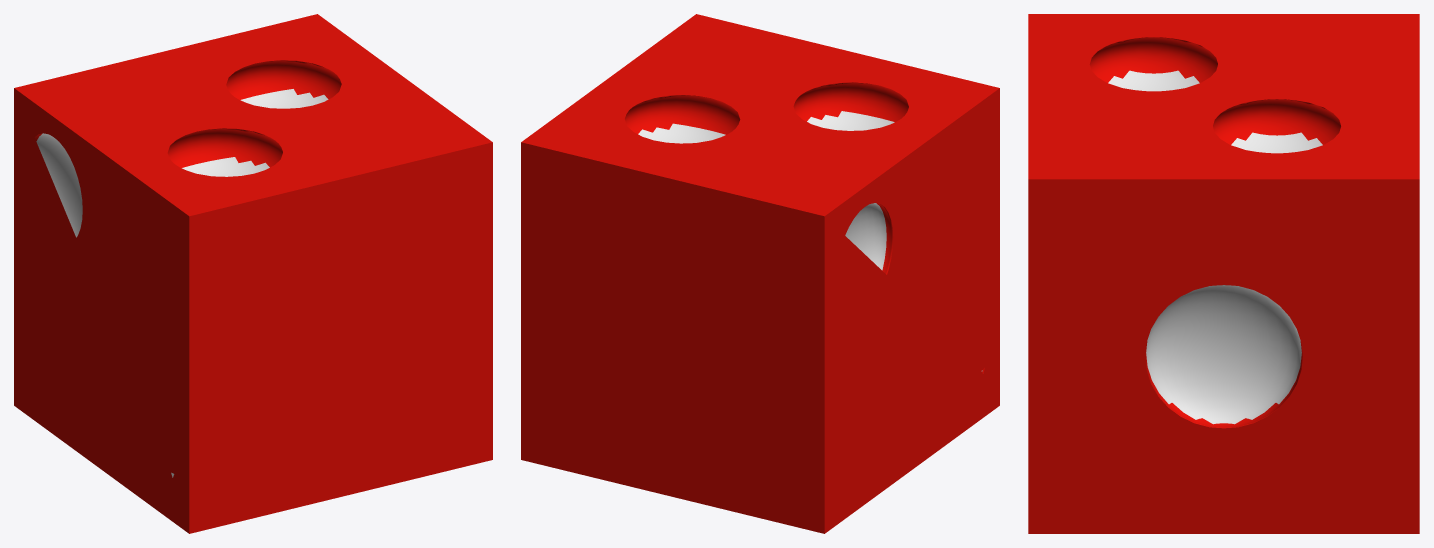
The model's file is dice.fbx.
3 renders of one model, left to right at view 1: azimuth 30°, elevation 25°; view 2: azimuth 150°, elevation 25°; view 3: azimuth 270°, elevation 25°, orthographic. The views are drawn at different scales.
Visible parts, largest first — view 1: Cube; view 2: Cube; view 3: Cube.
Part boxes in pixels (bbox=[...]): Cube: bbox=[14, 14, 492, 533]; Cube: bbox=[521, 14, 999, 533]; Cube: bbox=[1028, 14, 1419, 533].
Size of the model in its own units: 200 by 200 by 200.
